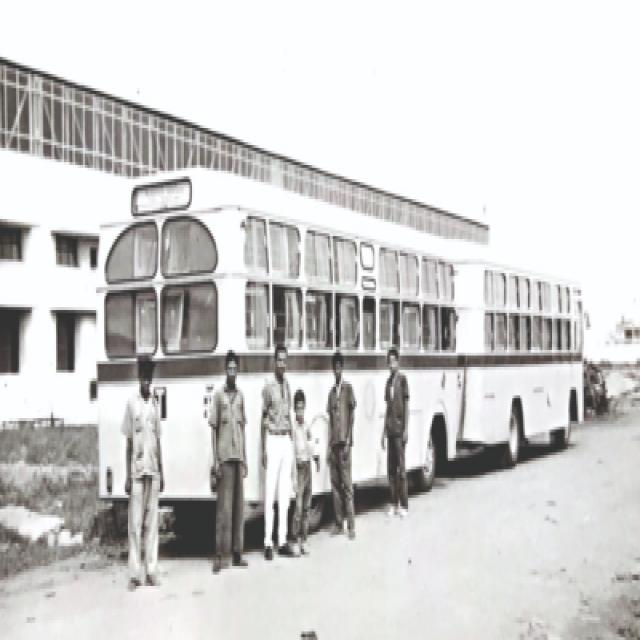BUS: (133, 168, 507, 483)
